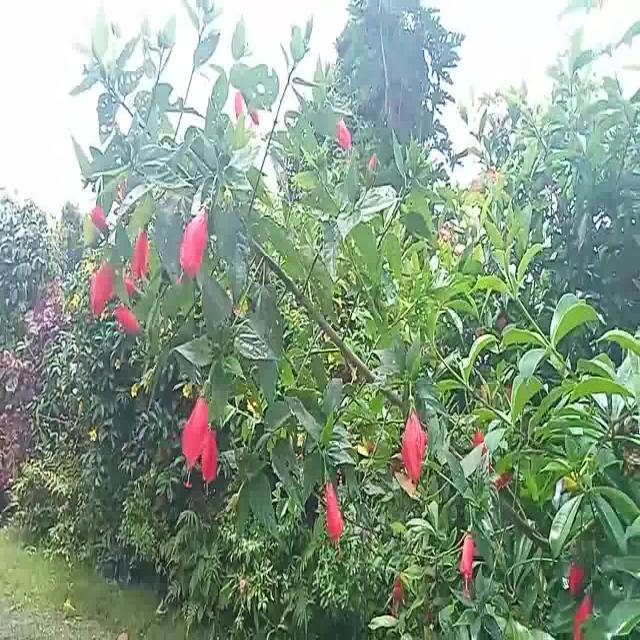Flower: (182, 389, 223, 495), (400, 395, 428, 489), (178, 200, 210, 279), (570, 560, 596, 640), (321, 470, 345, 547), (89, 249, 113, 322), (459, 521, 479, 588), (334, 114, 352, 156)
